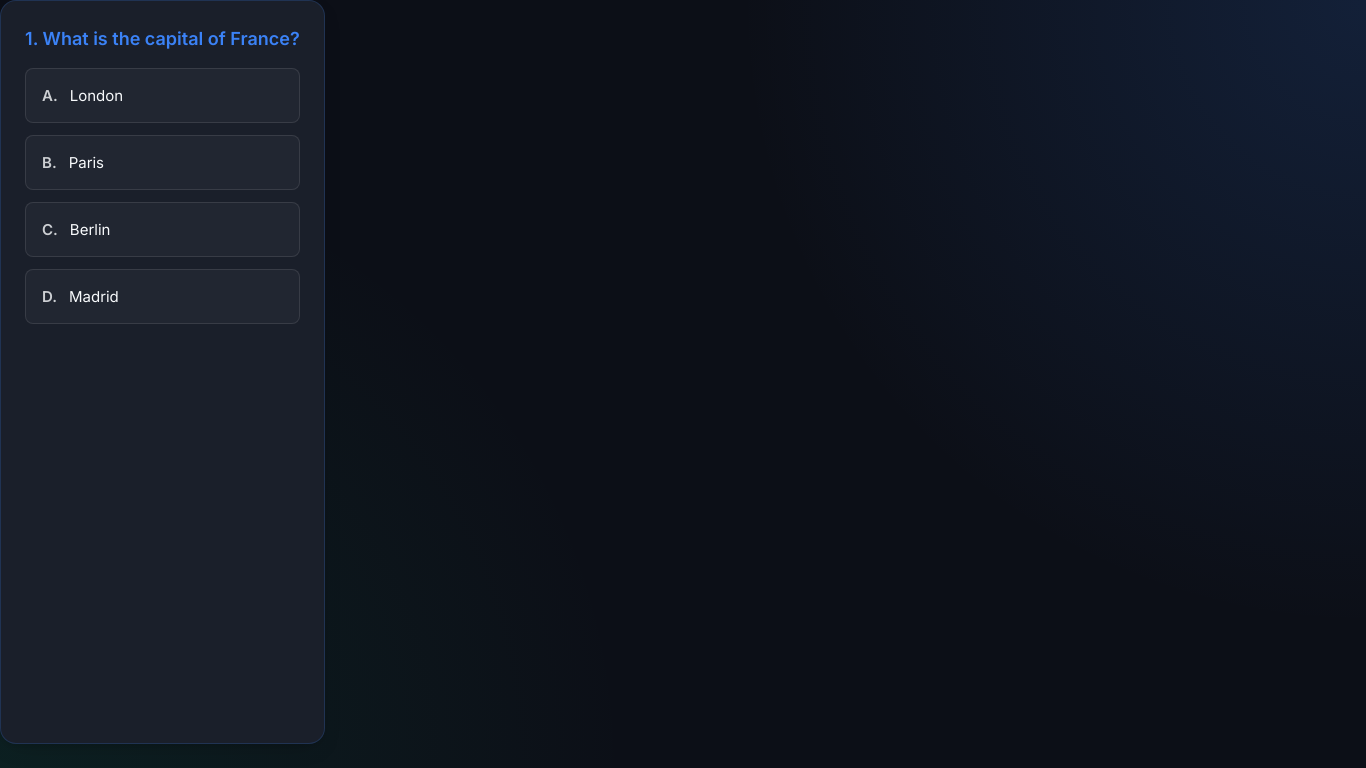
Scenario: QuestionCard Component › handles incorrect answer selection
Click the button "A. London" at (96, 96), box [25,68,300,123]
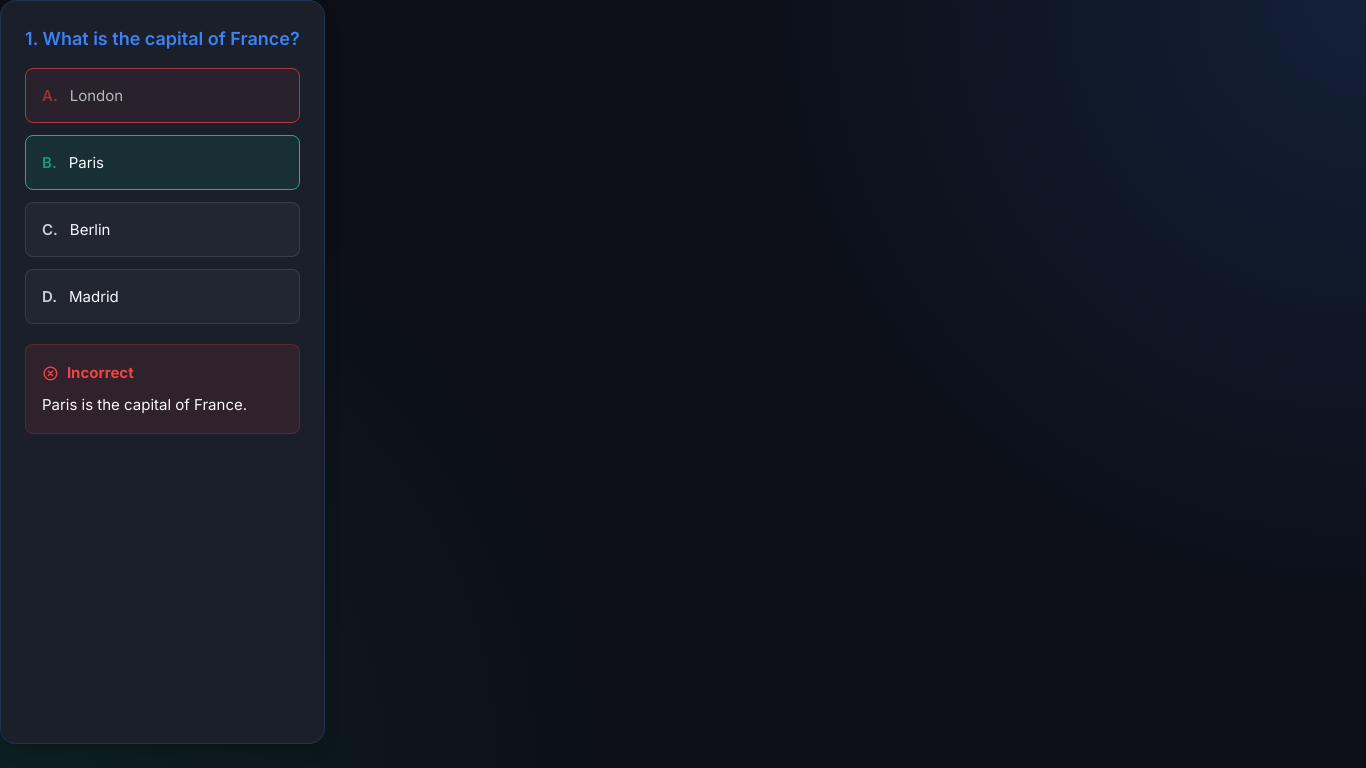
Now the text "Incorrect" is shown, box [67,361,134,385]
Now the text "Paris is the capital of France." is shown, box [42,393,283,417]
